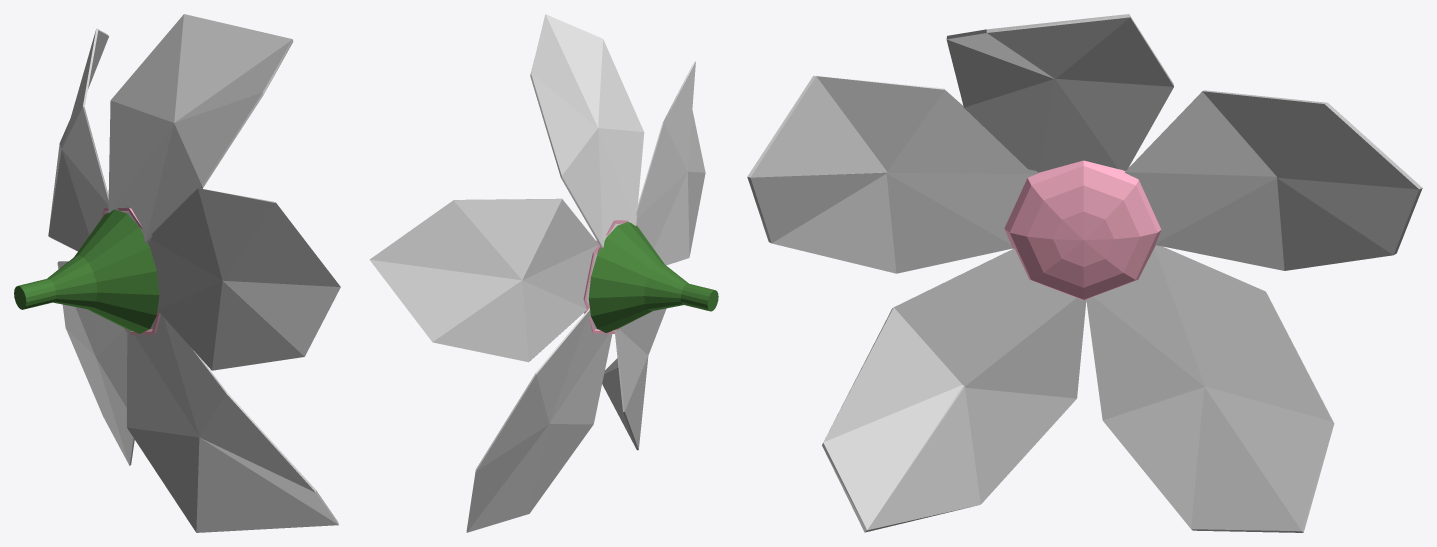
File: AlmondFlower.obj
3 renders of one model, left to right at view 1: azimuth 30°, elevation 25°; view 2: azimuth 150°, elevation 25°; view 3: azimuth 270°, elevation 25°, orthographic. The views are drawn at different scales.
Visible parts, largest first — view 1: petals, sepal; view 2: petals, sepal; view 3: petals.
Part boxes in pixels (box(x1,y1,x2,y2)): petals: box(48, 14, 340, 532); sepal: box(14, 209, 159, 333); petals: box(369, 14, 705, 532); sepal: box(588, 222, 718, 332); petals: box(747, 14, 1422, 532).
Bounding box in the file's own units: 0.933 × 1.79 × 2.03.
